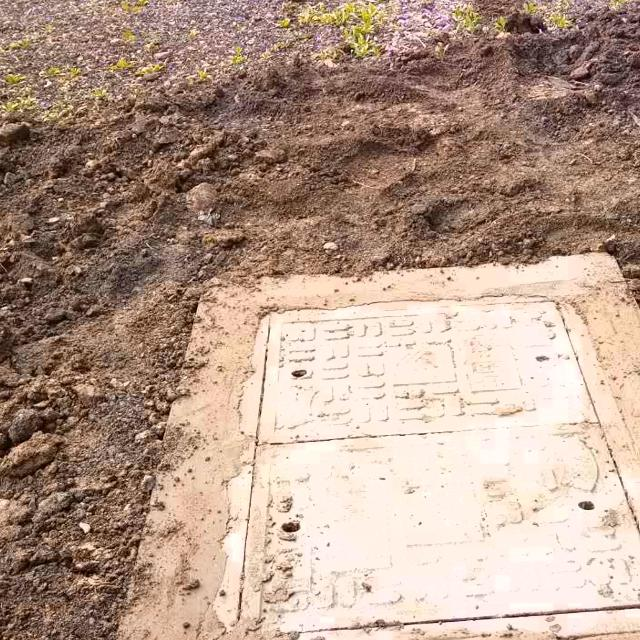good: (245, 290, 640, 640)
